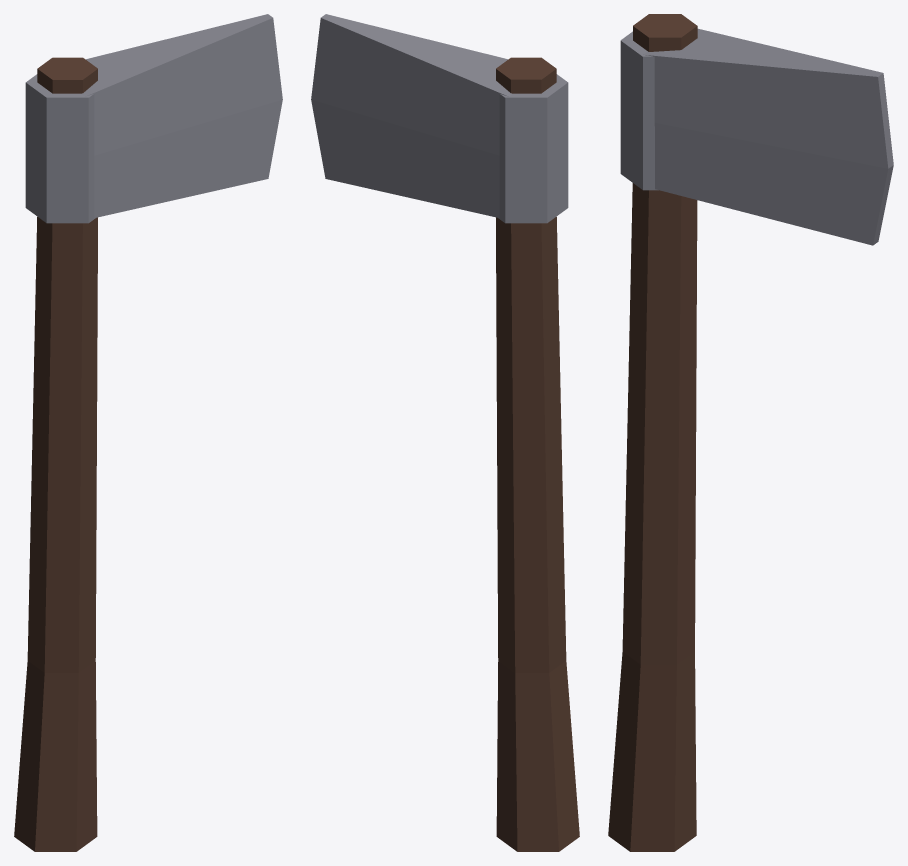
File: Axe 1.glb
3 renders of one model, left to right at view 1: azimuth 30°, elevation 25°; view 2: azimuth 150°, elevation 25°; view 3: azimuth 330°, elevation 25°, orthographic. The views are drawn at different scales.
Parts seen in each view (by area): view 1: Axe 1; view 2: Axe 1; view 3: Axe 1.
Part boxes in pixels (x1,y1,x2,y2): Axe 1: [14, 14, 282, 851]; Axe 1: [311, 14, 579, 851]; Axe 1: [608, 14, 893, 851].
Size of what is drawn, in the model's own units: 0.4134 by 1.19 by 0.1176.
1 material, 1 textured.
